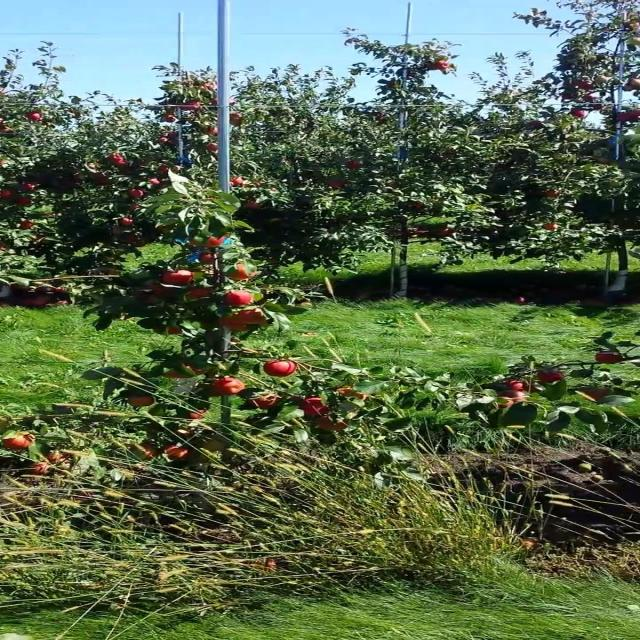apple: (262, 360, 299, 377), (6, 432, 36, 452), (212, 380, 249, 396), (170, 364, 204, 380), (163, 272, 196, 288), (163, 444, 192, 460), (220, 316, 249, 332), (497, 392, 526, 408), (227, 292, 256, 307), (305, 400, 332, 416), (134, 444, 160, 460), (582, 388, 612, 400), (234, 264, 256, 280), (127, 396, 156, 408), (319, 420, 348, 432), (255, 396, 281, 409), (596, 352, 624, 364), (340, 388, 368, 400), (511, 380, 539, 392), (241, 312, 267, 324), (540, 372, 565, 384), (504, 380, 528, 392), (205, 236, 228, 248), (191, 288, 213, 300), (49, 452, 71, 464), (28, 296, 50, 308), (28, 464, 50, 476), (156, 284, 174, 295), (618, 112, 638, 121), (198, 256, 219, 264), (582, 80, 596, 91), (141, 296, 158, 305), (248, 200, 263, 209), (191, 412, 206, 420), (170, 328, 185, 336), (191, 240, 203, 248), (575, 112, 588, 119), (625, 84, 636, 92)
